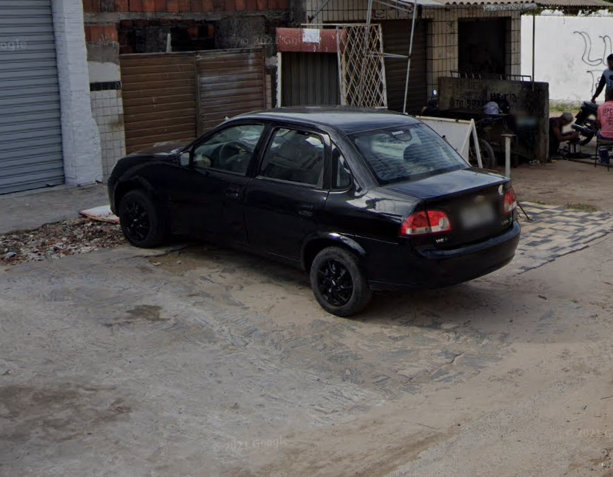car: (104, 101, 525, 317)
